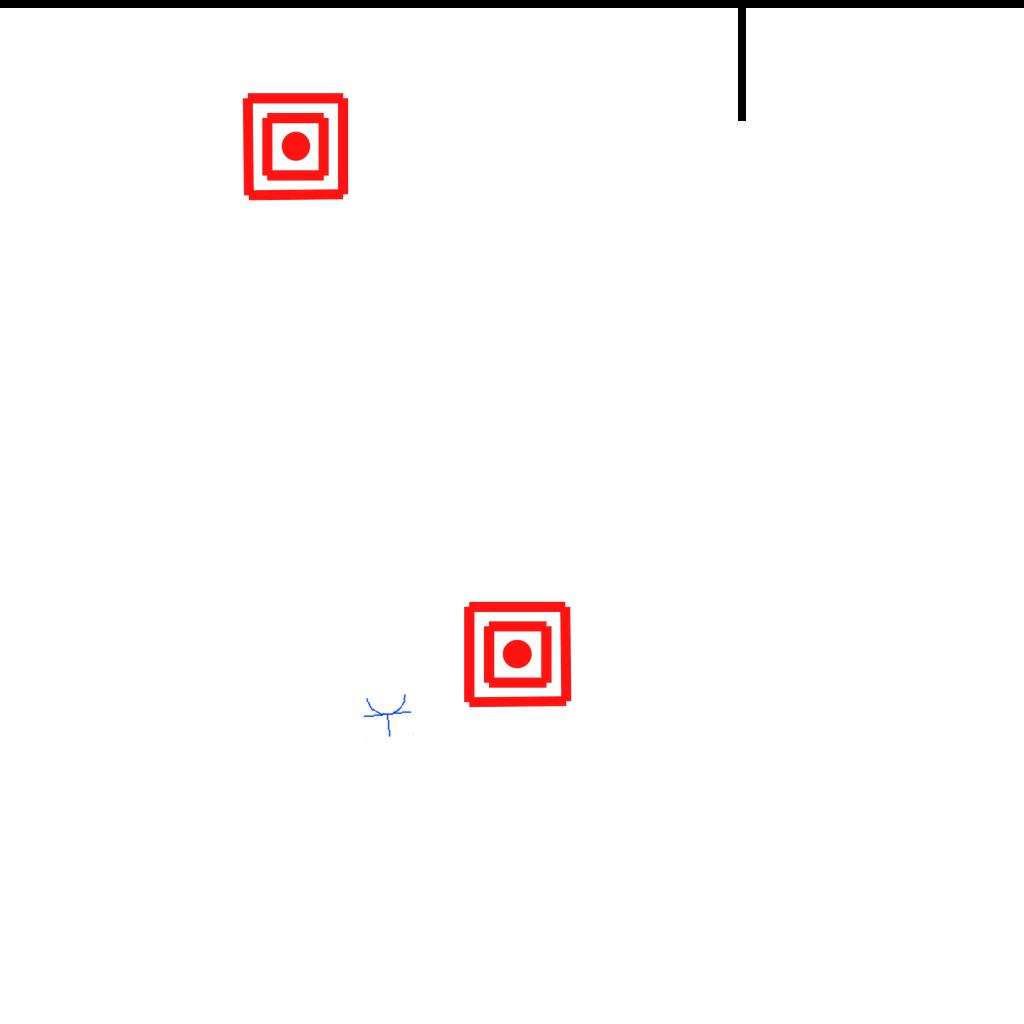NAM-Nichtautomatischer_Melder: (239, 90, 352, 203), (461, 598, 574, 711)
Schukosteckdose_einfach: (360, 691, 416, 740)
